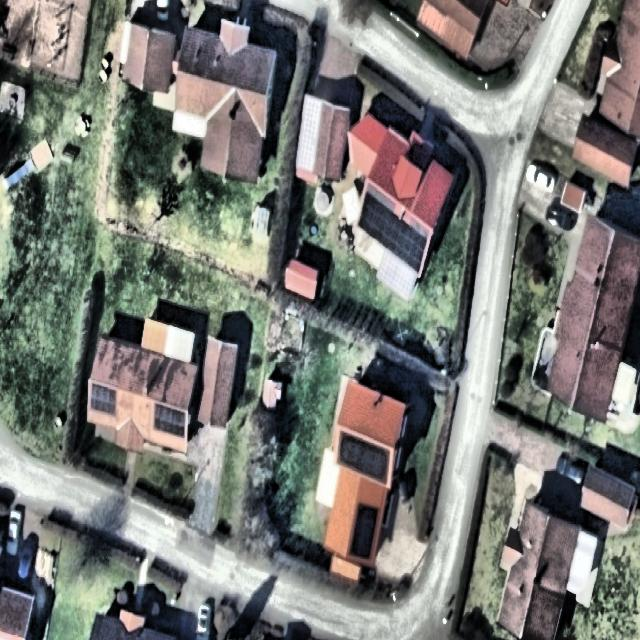roof_pv: (332, 428, 392, 488), (358, 181, 397, 248), (389, 216, 430, 274), (349, 500, 378, 561), (152, 401, 187, 443), (88, 378, 122, 420)
